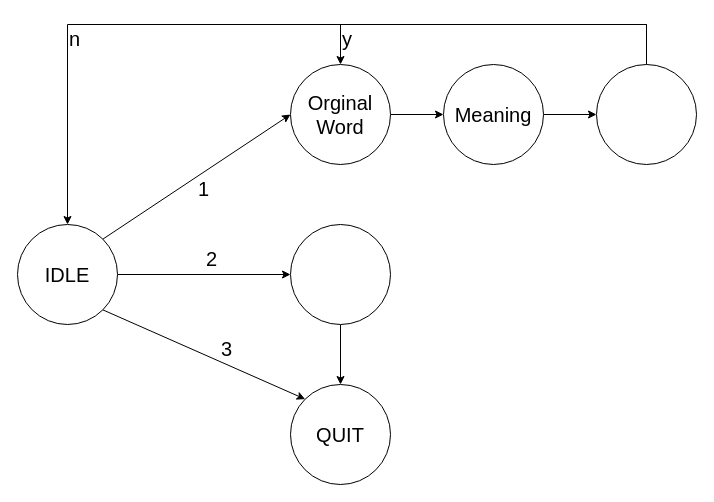
The diagram is 714 pixels wide and 502 high, and some of its shapes have lost their labels. The shapes that lost their labels are listed below. From the top down, each one's centre as x and y in pixels, then its label:
At (x=646, y=114): "Sentence".
At (x=340, y=274): "Export PDF".
